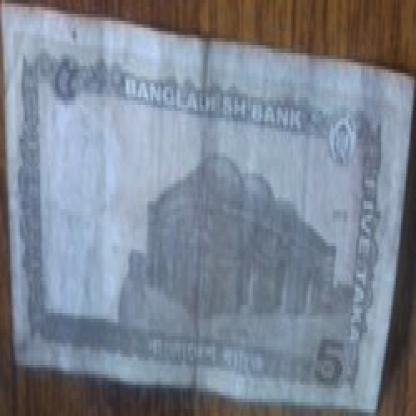Five Taka: (43, 45, 83, 104), (310, 326, 346, 388)
